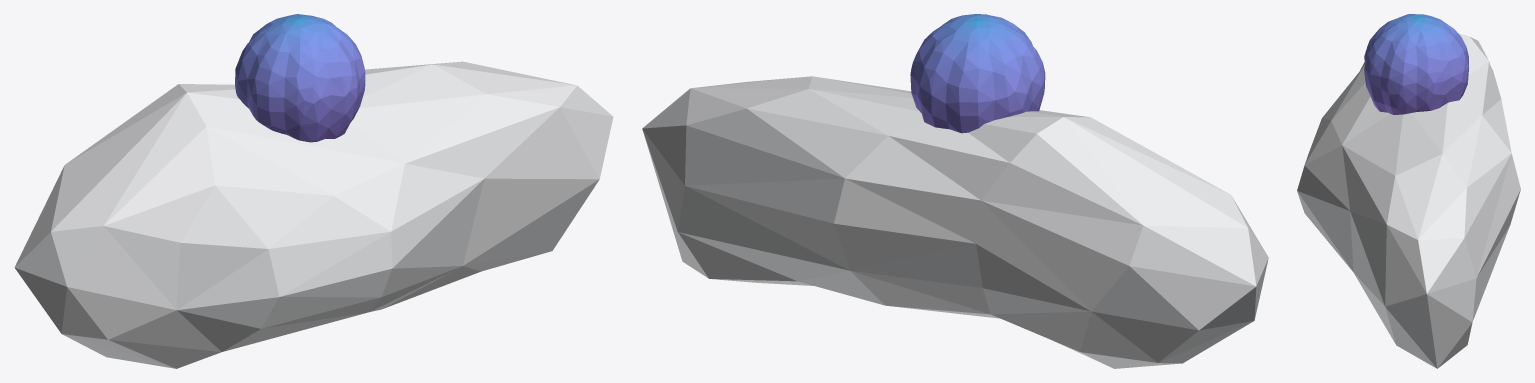
Rendered from AllInOne3DX.fbx.
3 renders of one model, left to right at view 1: azimuth 30°, elevation 25°; view 2: azimuth 150°, elevation 25°; view 3: azimuth 270°, elevation 25°, orthographic. The views are drawn at different scales.
Parts seen in each view (by area): view 1: Cloud.003, Baloon; view 2: Cloud.003, Baloon; view 3: Cloud.003, Baloon.
Boxes of the visible parts, x1=… form: Cloud.003: x1=14, y1=61, x2=613, y2=368; Baloon: x1=235, y1=14, x2=365, y2=142; Cloud.003: x1=642, y1=76, x2=1268, y2=368; Baloon: x1=910, y1=14, x2=1045, y2=133; Cloud.003: x1=1297, y1=33, x2=1520, y2=368; Baloon: x1=1364, y1=14, x2=1469, y2=114.
Size of the model in its own units: 54.46 by 26.3 by 21.49.
